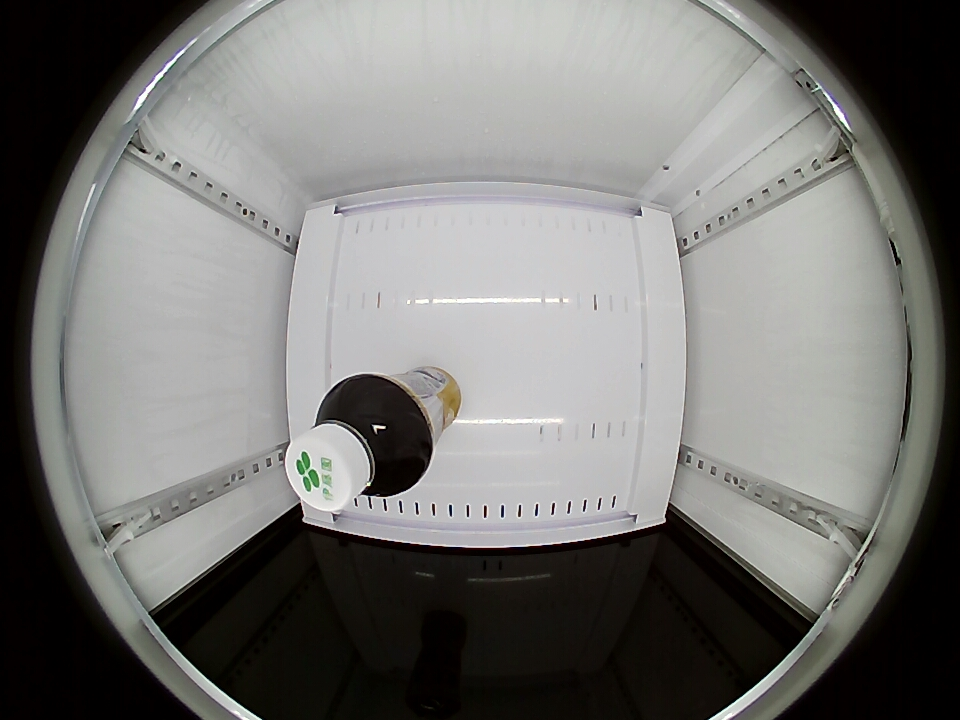damaicha: (285, 376, 430, 511)
